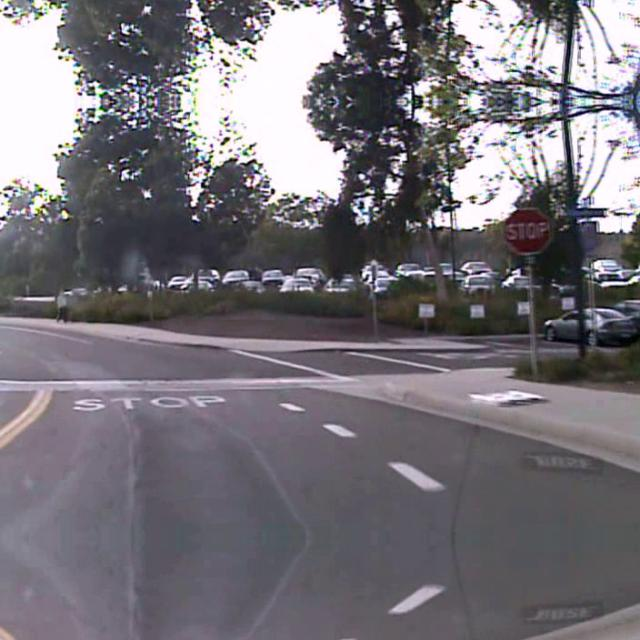stop: (502, 206, 552, 254)
